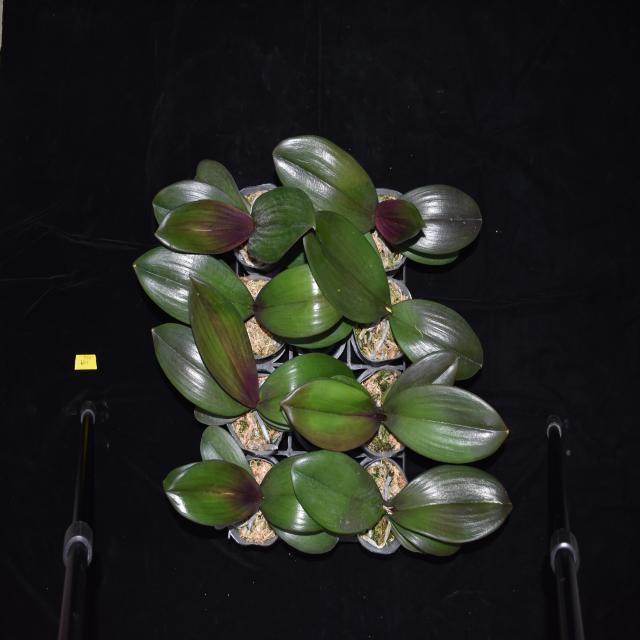leaf: (141, 322, 250, 419), (184, 274, 264, 404), (379, 382, 508, 459), (301, 215, 389, 324), (392, 468, 516, 540), (276, 142, 379, 228), (134, 255, 256, 322), (293, 454, 387, 535), (250, 356, 371, 416), (393, 297, 483, 375), (164, 456, 258, 528), (286, 378, 381, 449), (255, 276, 351, 344), (153, 183, 250, 249), (383, 182, 472, 252), (230, 192, 315, 251), (199, 419, 255, 490), (375, 197, 426, 250), (196, 155, 244, 204)
